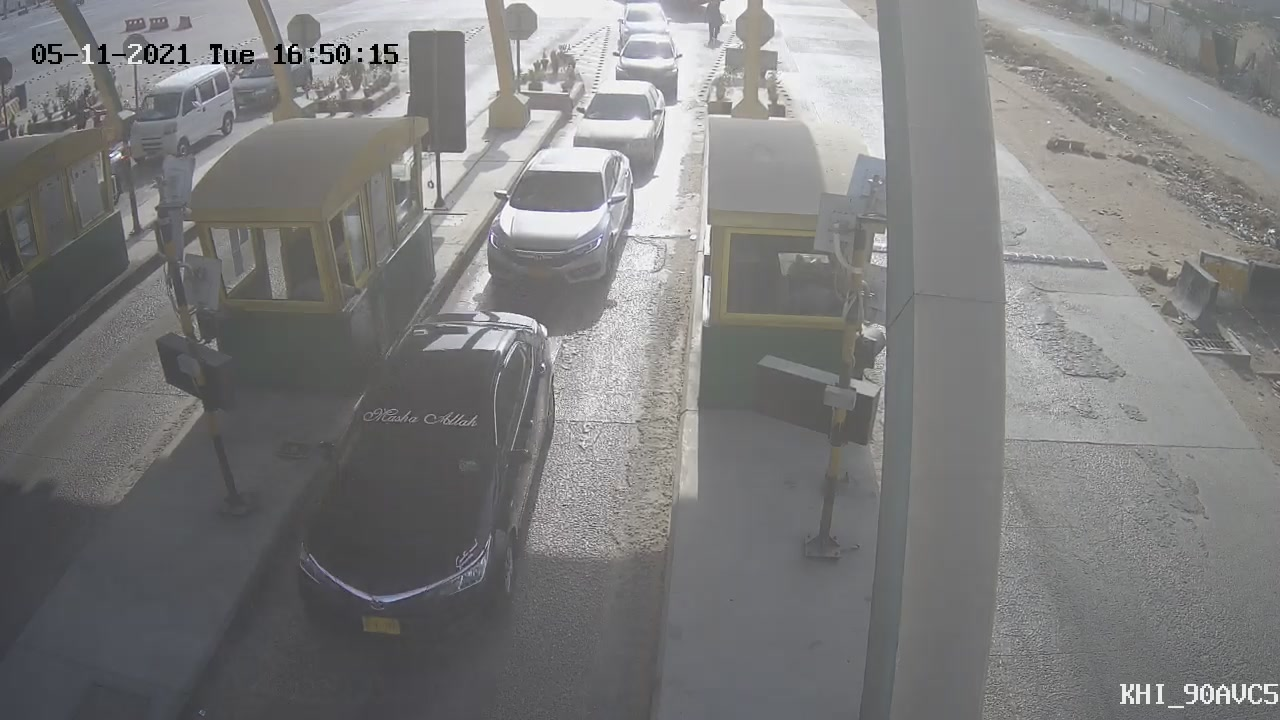F1: (473, 135, 653, 313), (557, 65, 679, 181)
